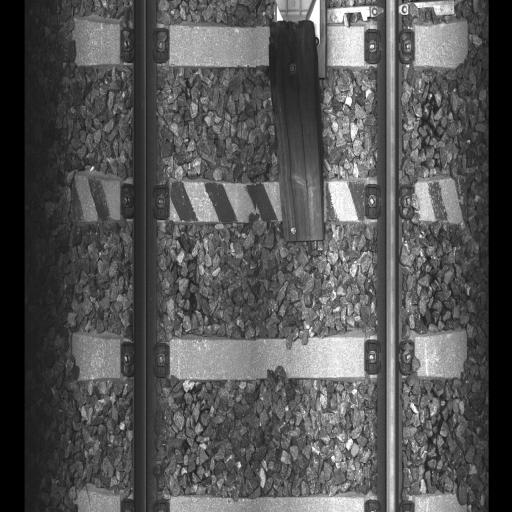clips: (115, 28, 167, 61), (120, 342, 172, 375), (365, 28, 413, 63), (364, 183, 412, 218), (365, 341, 415, 372), (121, 189, 167, 221), (368, 495, 412, 507)
sleepers: (65, 318, 469, 394), (69, 170, 469, 236), (70, 17, 470, 82), (68, 482, 462, 510)
